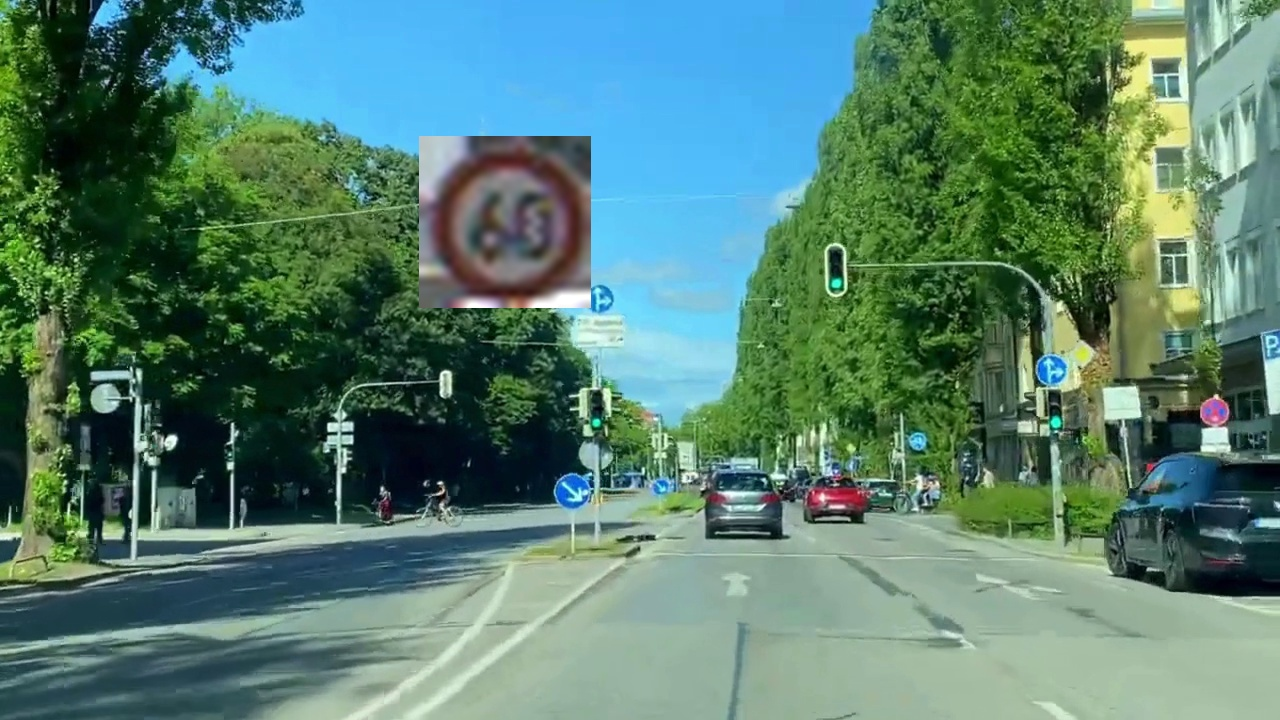Speed 60: (419, 136, 591, 308)
